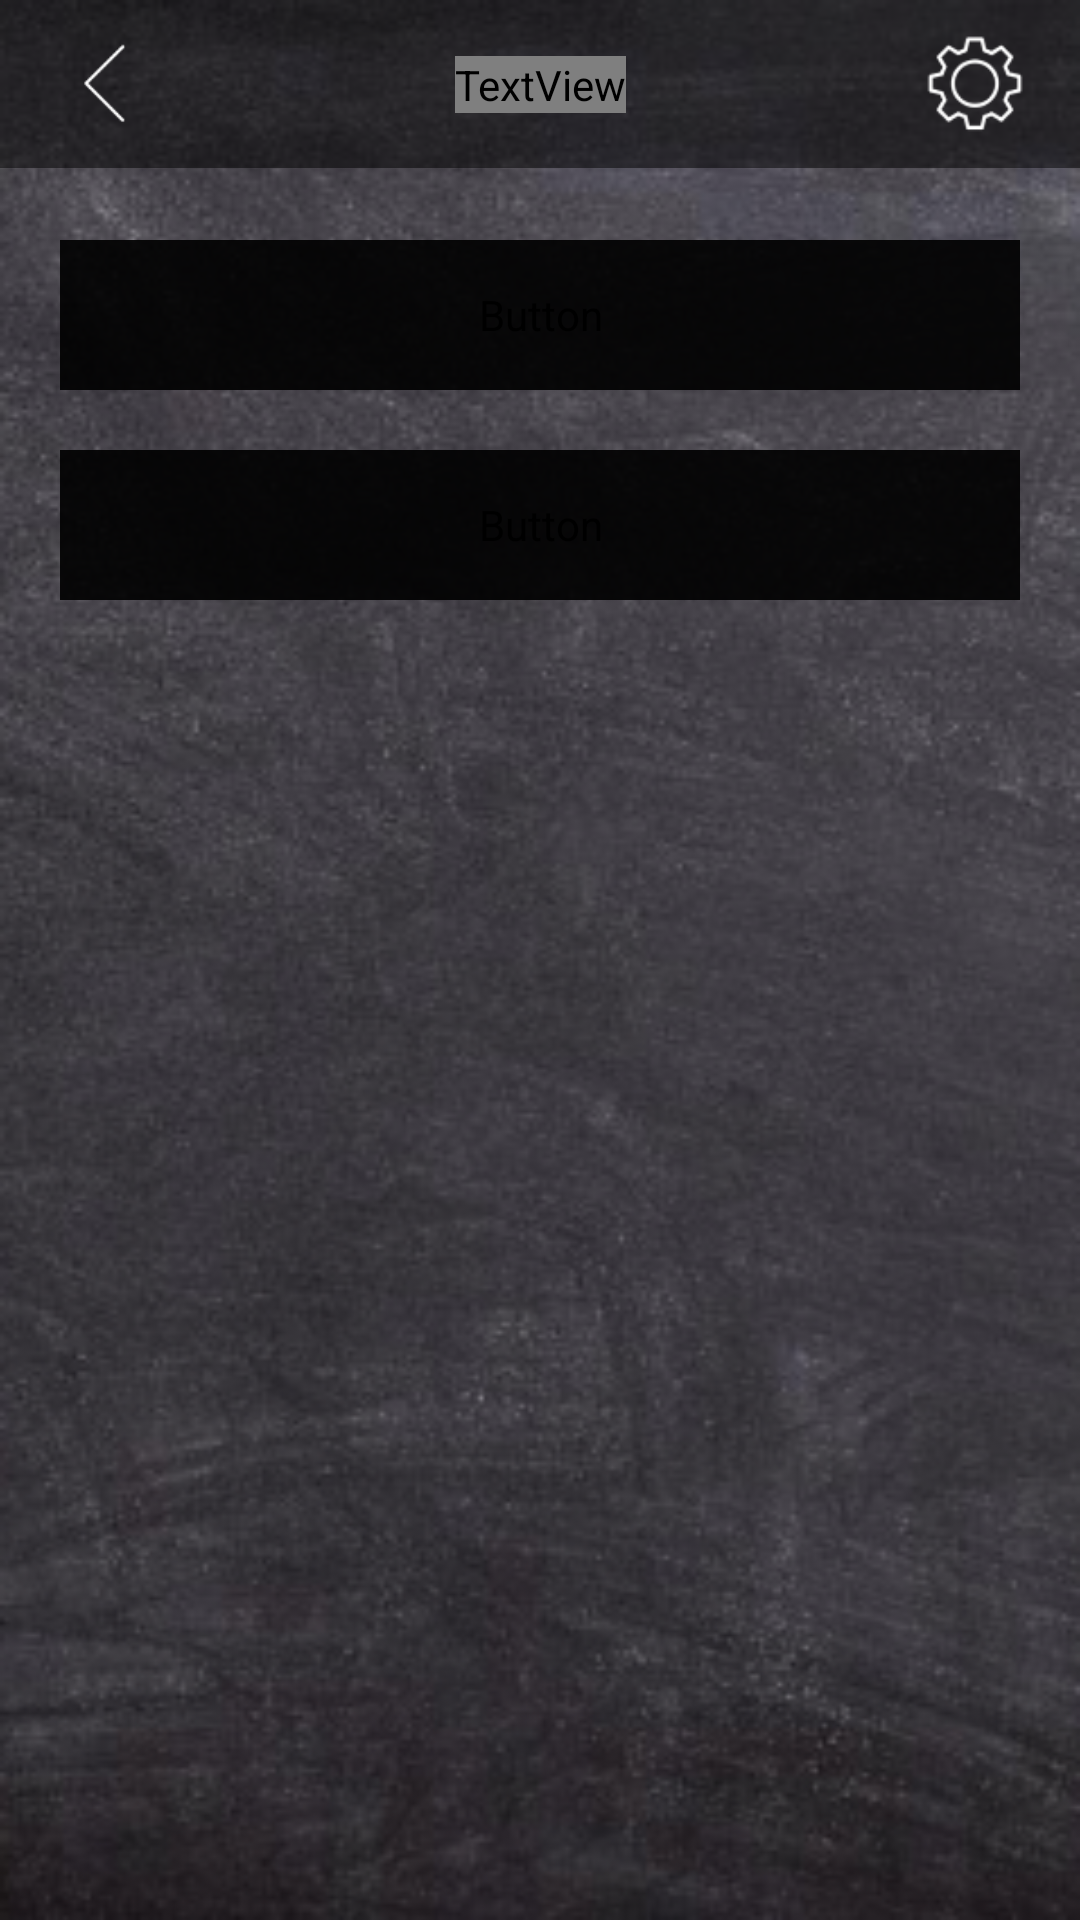

Screen size 1080*1920. Icon name, then its center in pixels as (x,y):
config: (975,83)
voltar: (104,83)
